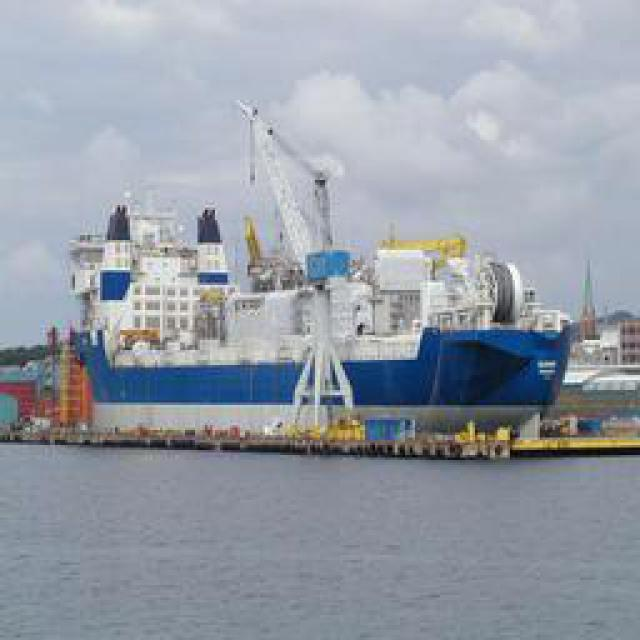Ship: (35, 176, 578, 441)
